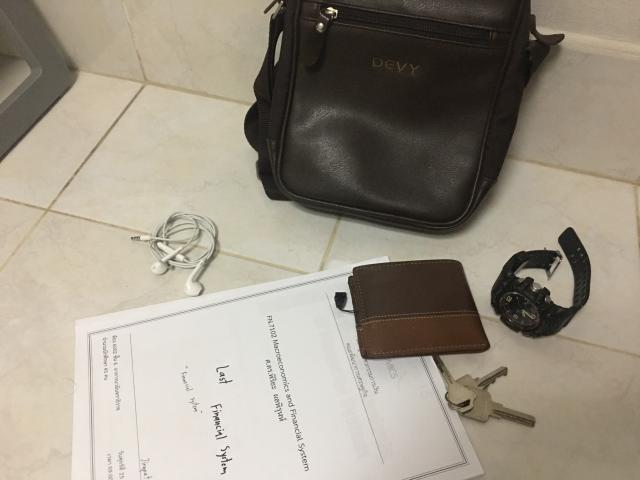Keys: (434, 356, 535, 426)
Wallet: (349, 260, 490, 359)
Watch: (491, 228, 591, 338)
paper: (70, 256, 482, 479)
wire: (131, 212, 216, 296)
